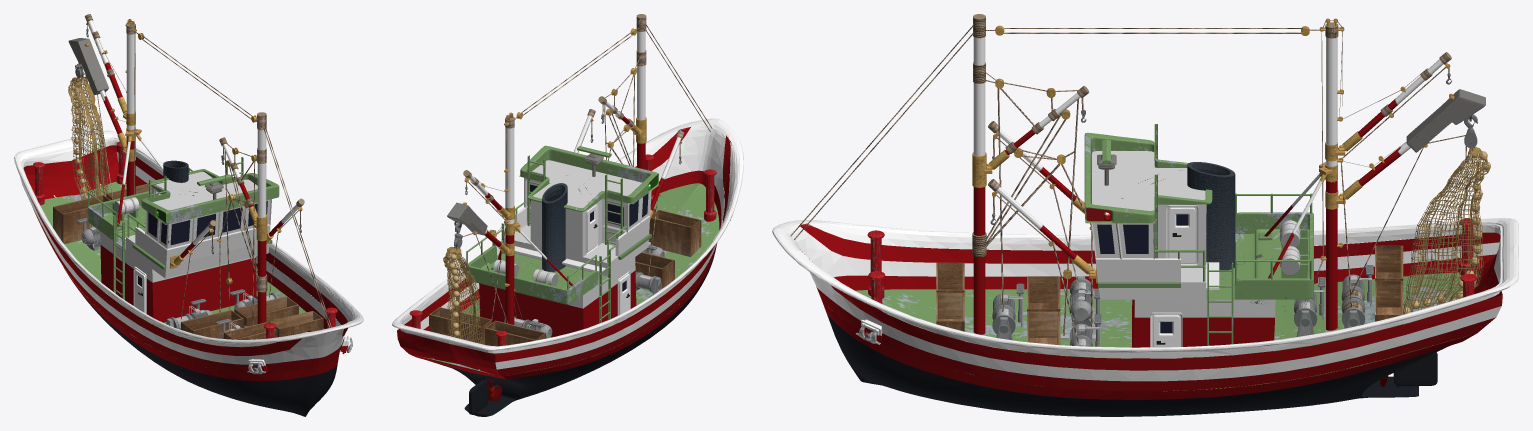
File: Fishing Boat VI.dae
3 views of the same model, side by side, from view 1: azimuth 30°, elevation 25°; view 2: azimuth 150°, elevation 25°; view 3: azimuth 270°, elevation 25° (orthographic). The views are drawn at different scales.
Parts seen in each view (by area): view 1: Fishing18, box_191, box_210, Fishing14, Fishing16, ellipse_005, Fishing0, box_189, Fishing4, Fishing8, box_197, box_163 (+19 smaller); view 2: Fishing18, box_191, Fishing14, box_210, box_163, Fishing16, Fishing4, box_189, Fishing0, ellipse_005, cylinder_276, box_168 (+20 smaller); view 3: Fishing18, Fishing14, Fishing16, box_191, Fishing0, Fishing4, ellipse_005, box_163, Fishing8, cylinder_276, box_210, box_189 (+19 smaller).
Part boxes in pixels (bbox=[...]): Fishing18: bbox=[14, 130, 363, 364]; box_191: bbox=[100, 172, 278, 282]; box_210: bbox=[100, 245, 256, 324]; Fishing14: bbox=[23, 145, 350, 355]; Fishing16: bbox=[70, 278, 337, 416]; ellipse_005: bbox=[68, 76, 109, 199]; Fishing0: bbox=[33, 180, 341, 373]; box_189: bbox=[141, 169, 279, 224]; Fishing4: bbox=[32, 181, 324, 357]; Fishing8: bbox=[63, 267, 339, 381]; box_197: bbox=[148, 201, 267, 245]; box_163: bbox=[87, 190, 193, 249]; Fishing18: bbox=[392, 118, 743, 369]; box_191: bbox=[514, 160, 658, 308]; Fishing14: bbox=[397, 127, 731, 362]; box_210: bbox=[479, 270, 636, 341]; box_163: bbox=[466, 245, 608, 304]; Fishing16: bbox=[430, 252, 714, 416]; Fishing4: bbox=[421, 183, 719, 374]; box_189: bbox=[520, 145, 658, 211]; Fishing0: bbox=[423, 170, 721, 371]; ellipse_005: bbox=[443, 247, 482, 343]; cylinder_276: bbox=[542, 183, 567, 271]; box_168: bbox=[648, 209, 701, 256]; Fishing18: bbox=[772, 218, 1518, 381]; Fishing14: bbox=[800, 223, 1502, 370]; Fishing16: bbox=[826, 309, 1448, 416]; box_191: bbox=[1085, 151, 1275, 317]; Fishing0: bbox=[816, 259, 1448, 391]; Fishing4: bbox=[828, 272, 1477, 391]; ellipse_005: bbox=[1403, 146, 1489, 318]; box_163: bbox=[1206, 212, 1313, 299]; Fishing8: bbox=[829, 272, 1437, 399]; cylinder_276: bbox=[1187, 162, 1235, 270]; box_210: bbox=[1132, 299, 1274, 358]; box_189: bbox=[1084, 132, 1212, 223].
Size of the model in its own units: 3.8 by 10.51 by 5.85.
30 materials, 28 textured.
